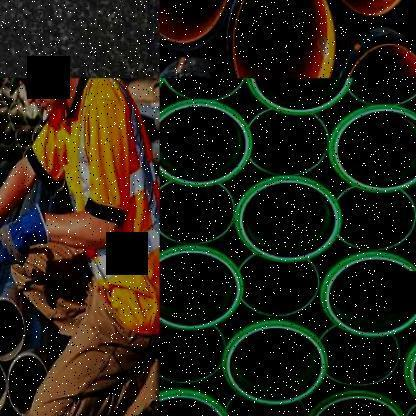pipe: (226, 0, 341, 78), (222, 321, 328, 405), (236, 178, 341, 262), (319, 251, 416, 337), (160, 100, 252, 187), (328, 104, 416, 192), (160, 245, 243, 329), (248, 110, 329, 176), (237, 254, 320, 317), (334, 187, 416, 249), (320, 326, 401, 386), (160, 182, 235, 244), (245, 78, 354, 116), (160, 0, 238, 52), (160, 322, 226, 383), (330, 34, 416, 78), (302, 388, 410, 416), (7, 354, 48, 416), (319, 0, 416, 23), (160, 388, 232, 416), (223, 393, 307, 416), (162, 78, 246, 100), (348, 78, 416, 104), (0, 298, 24, 361), (404, 327, 416, 415), (8, 102, 24, 127), (15, 125, 32, 148), (1, 81, 18, 103), (0, 123, 15, 147), (0, 356, 6, 416), (406, 399, 416, 416), (1, 100, 7, 124), (0, 145, 6, 164), (0, 78, 10, 84)
